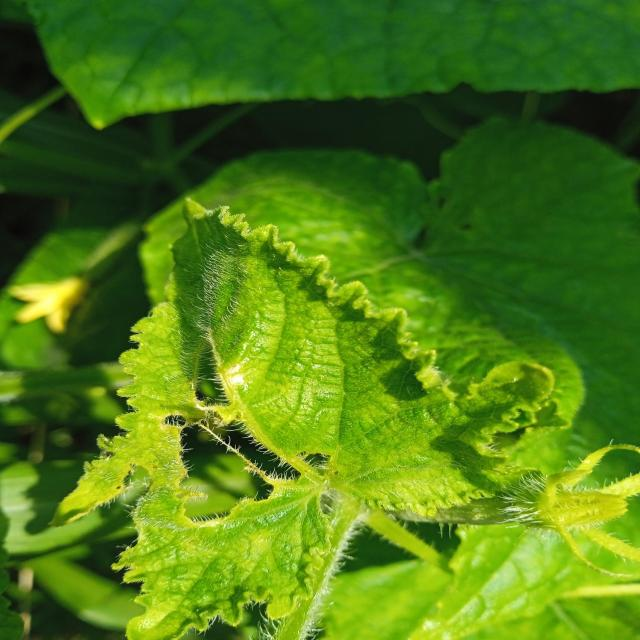cucumber_healthy: (44, 186, 566, 640), (135, 113, 640, 528), (18, 0, 640, 139)
